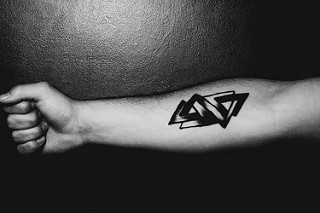fist: (5, 83, 86, 158)
